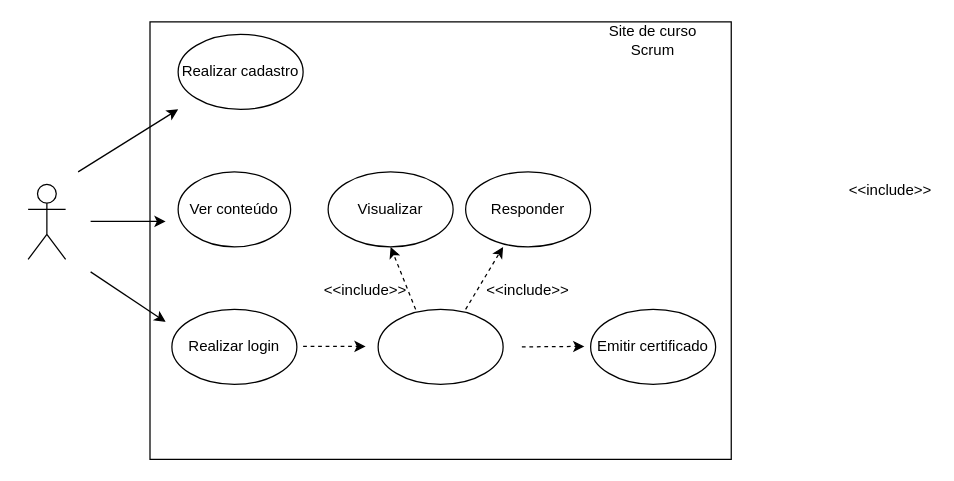
This 954x481 diagram has some shape labels left out. Here are the shapes that lost their labels. From the top down, the centre of each, then its label:
(46,221): Usuário
(440,346): Questionário
